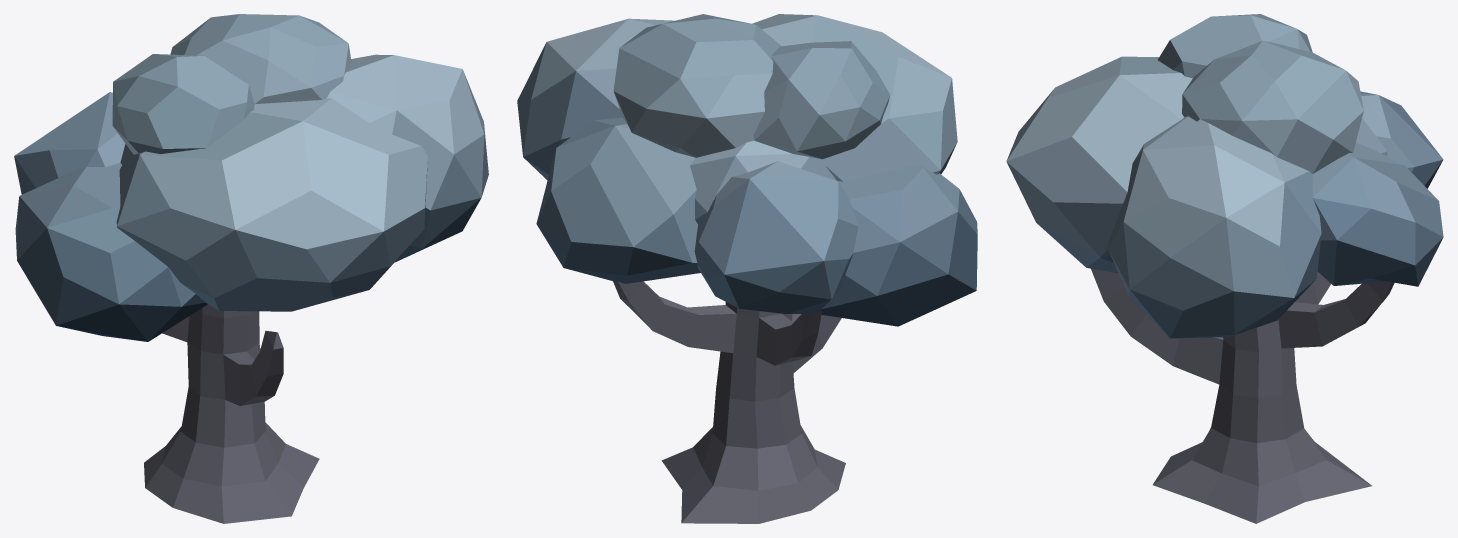
Rendered from Ice_Oak.glb.
The picture shows the model from 3 angles, left to right: view 1: azimuth 30°, elevation 25°; view 2: azimuth 150°, elevation 25°; view 3: azimuth 270°, elevation 25°; orthographic projection. The views are drawn at different scales.
Visible parts, largest first — view 1: Ice_Oak; view 2: Ice_Oak; view 3: Ice_Oak.
Part boxes in pixels (box(x1,y1,x2,y2)): Ice_Oak: box(14, 14, 488, 523); Ice_Oak: box(517, 14, 977, 523); Ice_Oak: box(1006, 14, 1443, 523).
Bounding box in the file's own units: 7.43 × 7.14 × 6.34.
